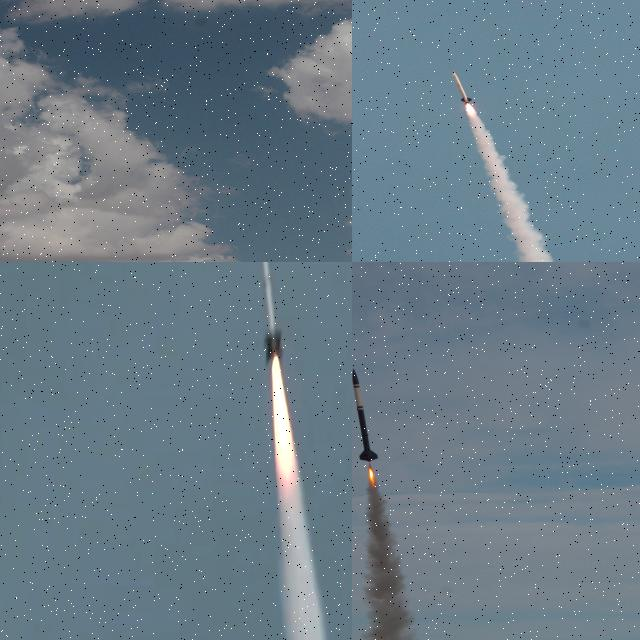Rocket: (258, 262, 284, 366), (352, 367, 378, 462), (452, 71, 472, 105)
